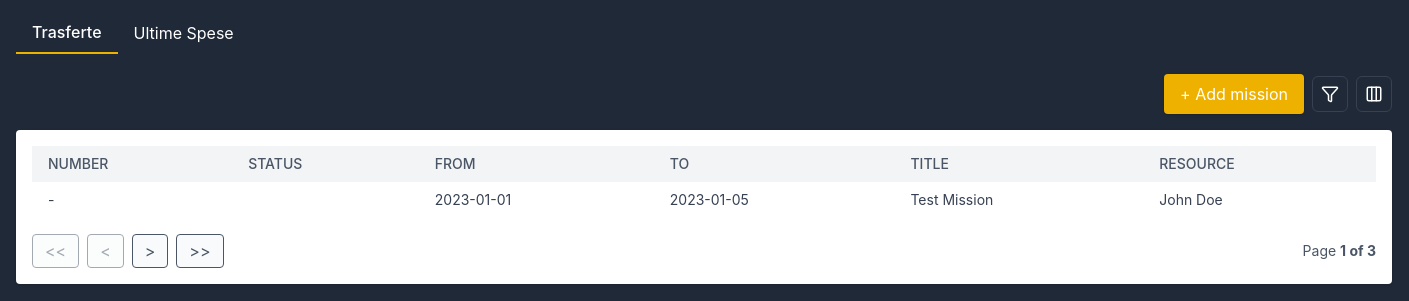
Test case: MissionPage › renders tabs and switches tab
This screenshot has width=1409, height=301.
Check: the button with test id "mission-filter-button" is shown, box x1=1312 y1=76 x2=1348 y2=112
Click the button "Ultime Spese": click(184, 33) x1=118 y1=13 x2=250 y2=53
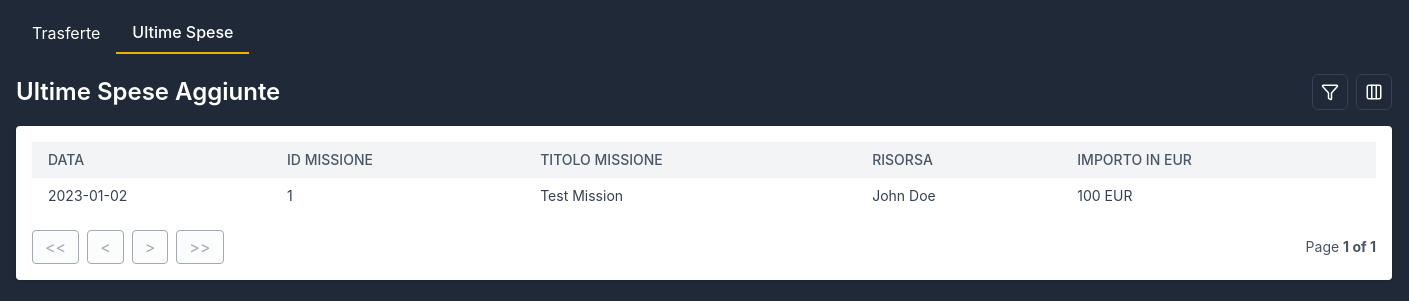
Check: the button with test id "expense-filter-button" is shown, box x1=1312 y1=74 x2=1348 y2=110
Click the button "Trasferte": click(66, 33) x1=16 y1=13 x2=116 y2=53
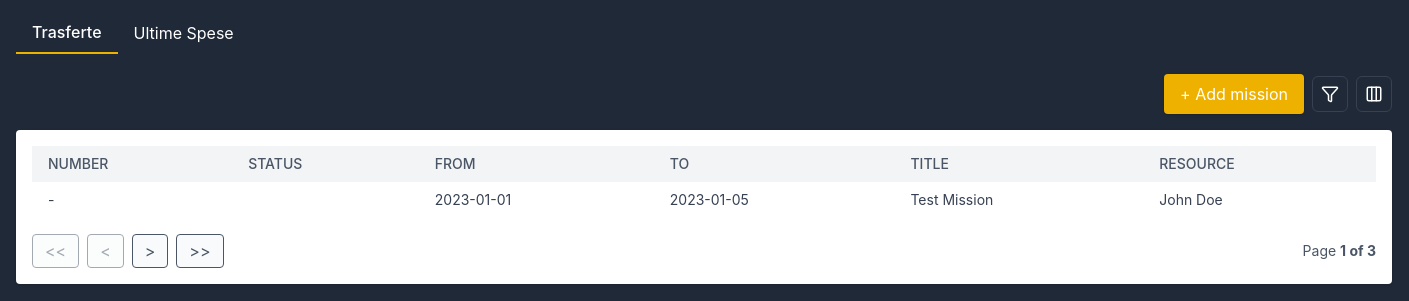
Check: the button with test id "mission-filter-button" is shown, box x1=1312 y1=76 x2=1348 y2=112
